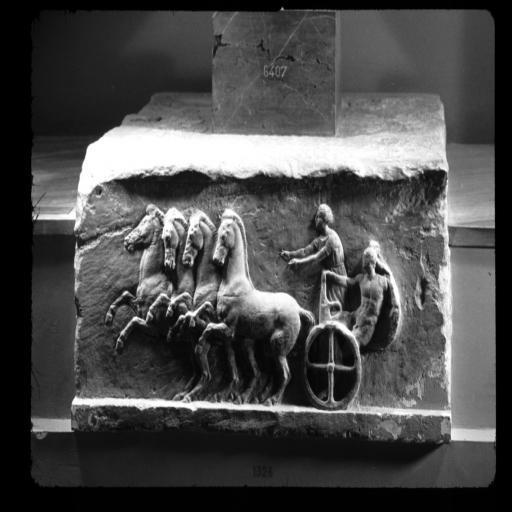horse: (190, 211, 318, 407), (106, 201, 224, 405), (114, 206, 238, 399), (166, 210, 258, 400)
